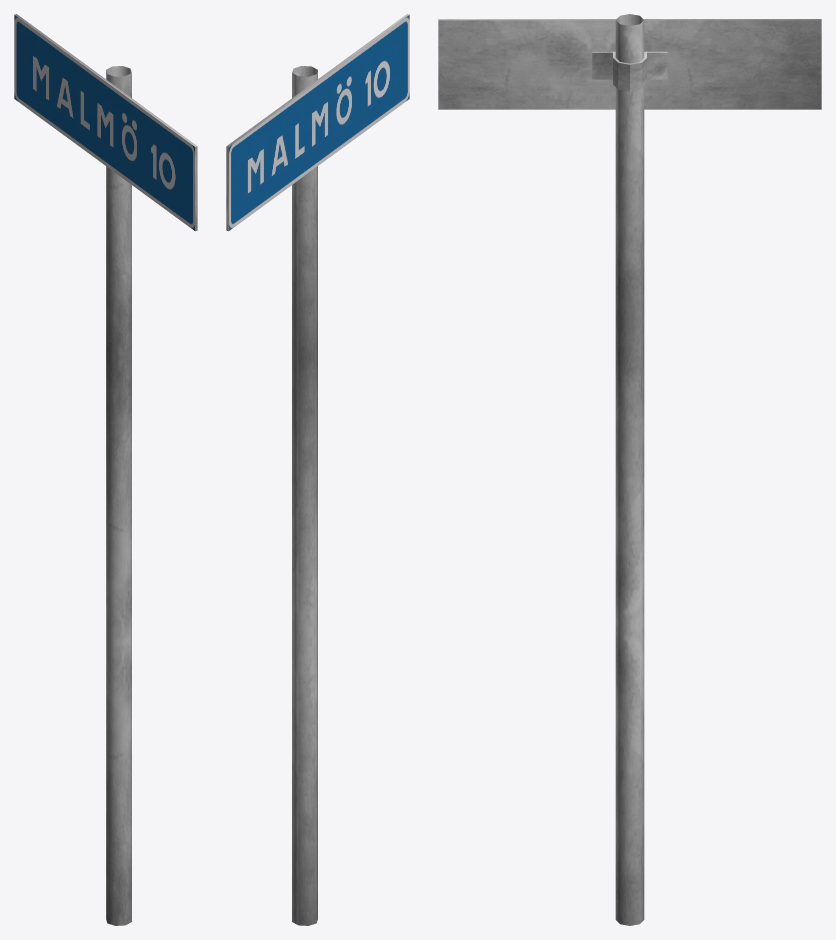
The model's file is Skylt1.fbx.
The picture shows the model from 3 angles, left to right: view 1: azimuth 30°, elevation 25°; view 2: azimuth 150°, elevation 25°; view 3: azimuth 270°, elevation 25°; orthographic projection. The views are drawn at different scales.
Parts seen in each view (by area): view 1: Stång, Cube; view 2: Stång, Cube; view 3: Cube, Stång, Skylt.
Boxes of the visible parts, x1=… form: Stång: x1=106, y1=66, x2=131, y2=925; Cube: x1=14, y1=14, x2=197, y2=231; Stång: x1=292, y1=66, x2=317, y2=925; Cube: x1=226, y1=14, x2=409, y2=231; Cube: x1=438, y1=19, x2=821, y2=109; Stång: x1=615, y1=14, x2=644, y2=925; Skylt: x1=592, y1=51, x2=667, y2=91.
Bounding box in the file's own units: 12.15 × 350 × 135.
